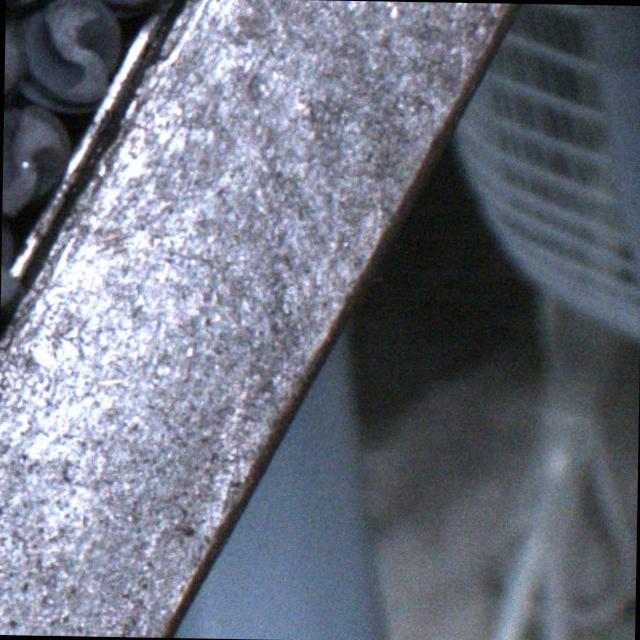tool_b: (12, 0, 120, 114), (2, 104, 68, 215)
